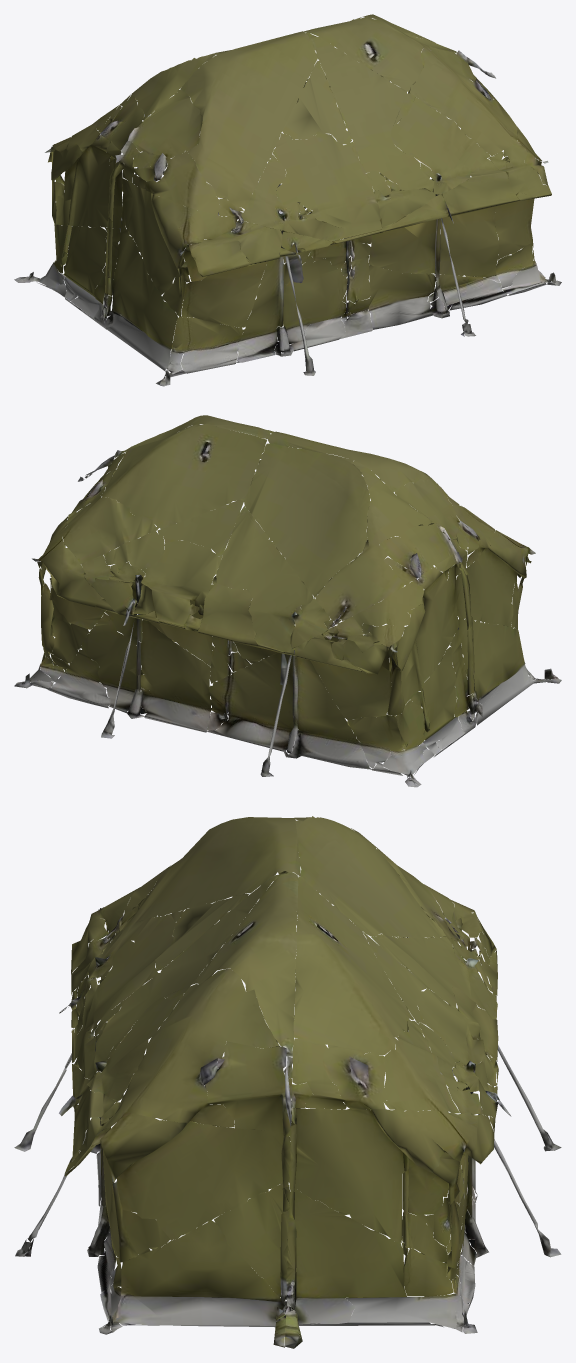
Rendered from prop_expedition_tent_LOD1.glb.
3 renders of one model, top to bottom at view 1: azimuth 30°, elevation 25°; view 2: azimuth 150°, elevation 25°; view 3: azimuth 270°, elevation 25°, orthographic. The views are drawn at different scales.
Parts seen in each view (by area): view 1: tripo_node_f8e14f25-867f-4e02-b513-935ae1ca1cbb; view 2: tripo_node_f8e14f25-867f-4e02-b513-935ae1ca1cbb; view 3: tripo_node_f8e14f25-867f-4e02-b513-935ae1ca1cbb.
Boxes of the visible parts, x1,y1,x2,y2 form: tripo_node_f8e14f25-867f-4e02-b513-935ae1ca1cbb: (14, 14, 561, 386); tripo_node_f8e14f25-867f-4e02-b513-935ae1ca1cbb: (14, 415, 561, 787); tripo_node_f8e14f25-867f-4e02-b513-935ae1ca1cbb: (14, 816, 561, 1348).
Size of the model in its own units: 0.9984 by 0.5482 by 0.8045.
Materials: 1 (1 with a texture image).
